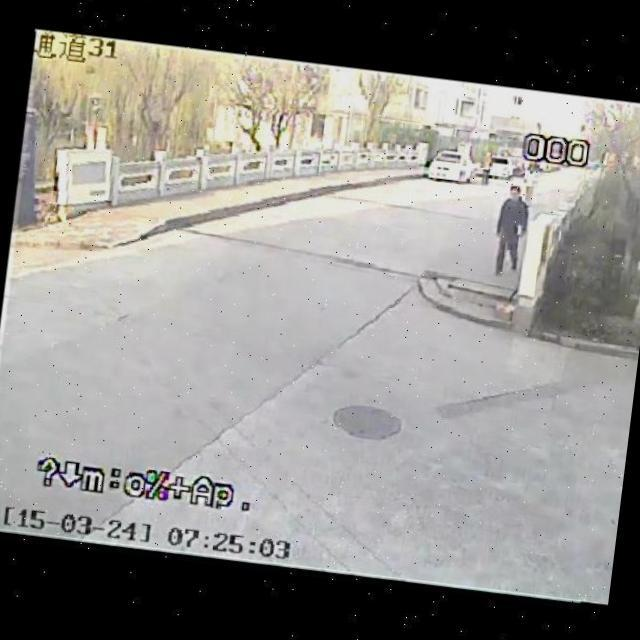person: (479, 175, 542, 296)
